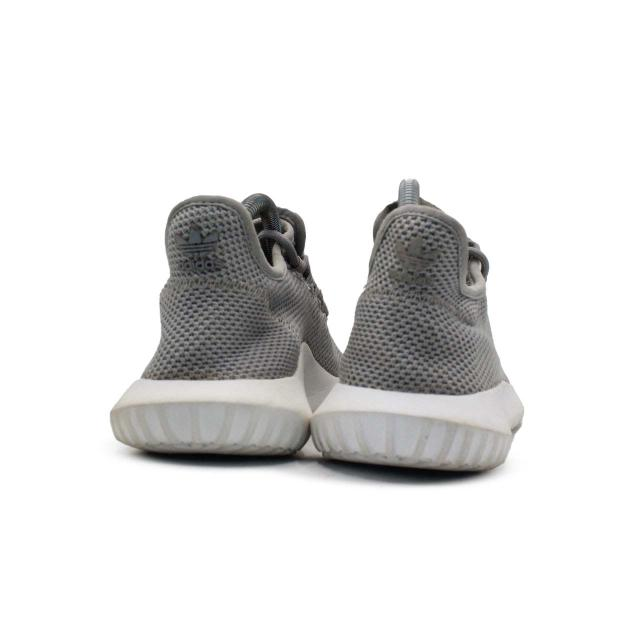heel: (344, 196, 492, 390), (142, 188, 294, 374)
midsole: (332, 386, 515, 464), (110, 380, 308, 449)
